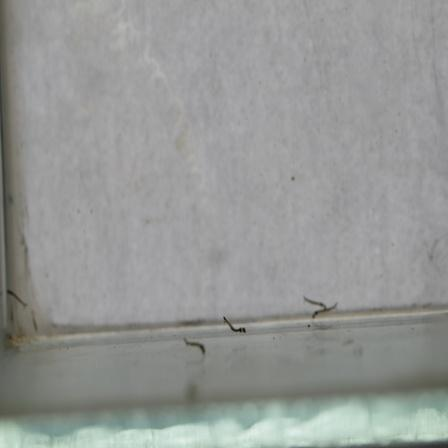Jentik-Nyamuk: (179, 335, 209, 360), (220, 312, 248, 335)
